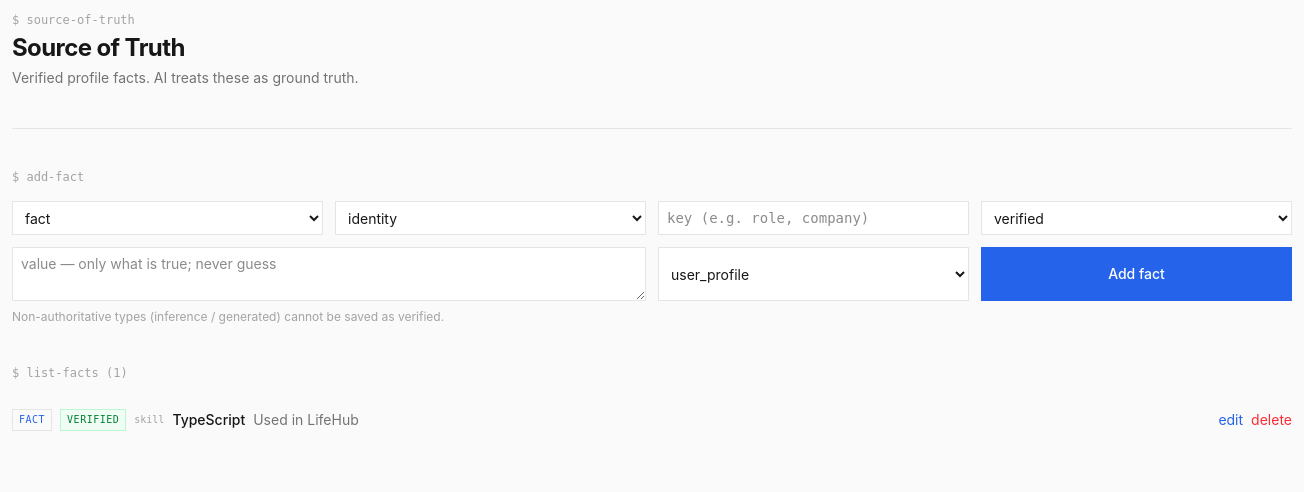
it: ProfileFactsPage › deletes a fact after confirmation
expect the text "TypeScript" is shown: met, box [172,410,245,430]
Click the button "delete".
click(1272, 420)  # box [1251,410,1292,430]
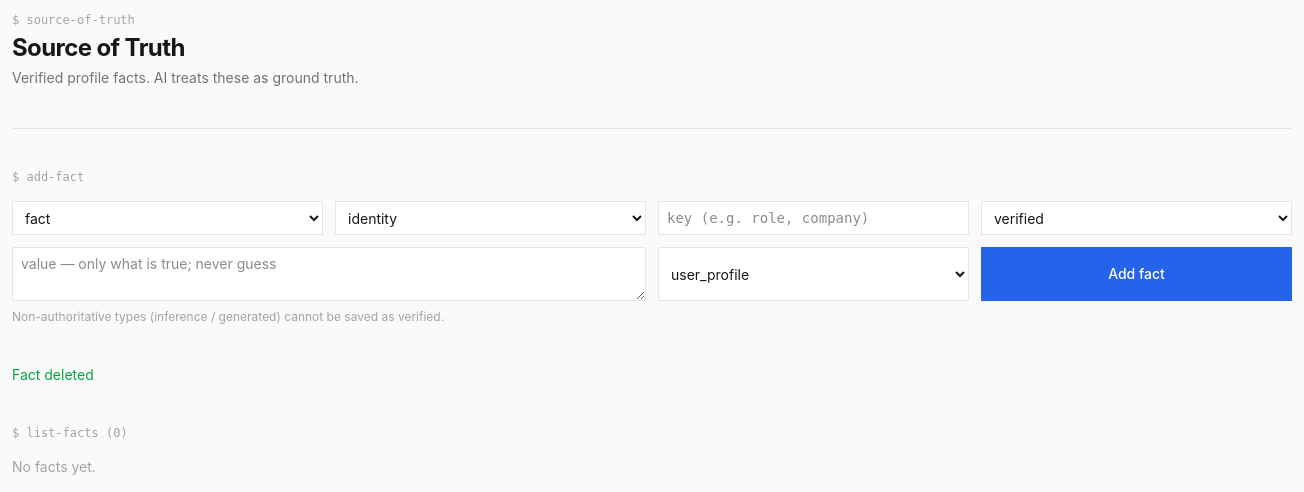
expect the text "$ list-facts (0)" is shown: met, box [12,426,128,440]
